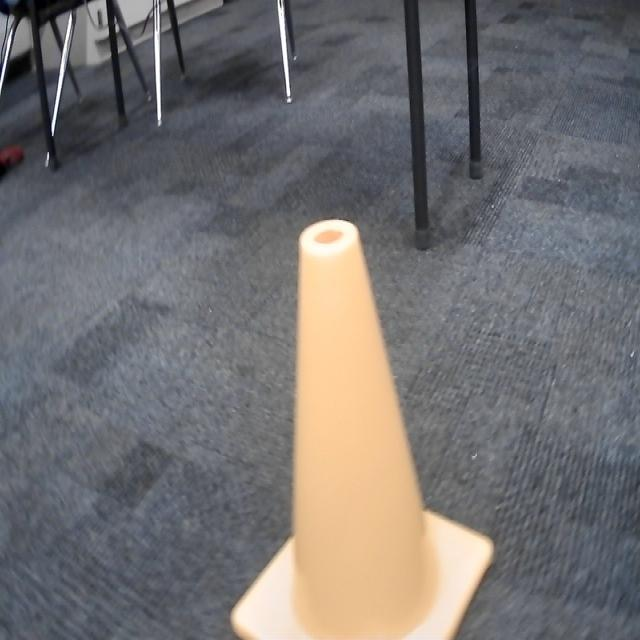cone: (228, 220, 495, 640)
